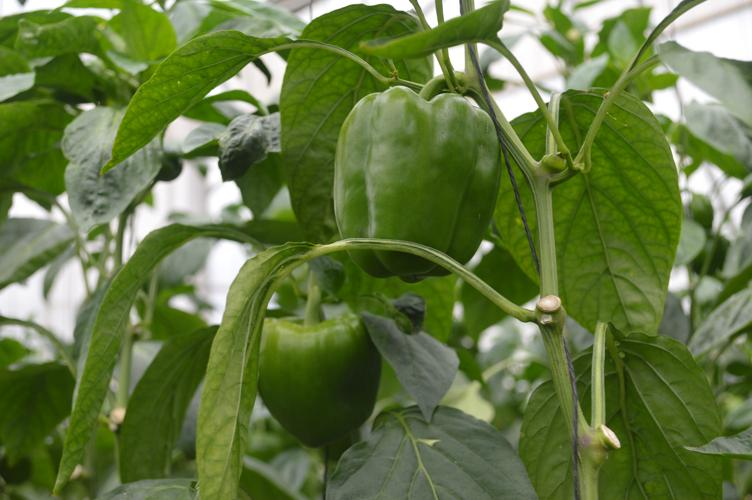BellPepper: (322, 70, 506, 287), (243, 303, 391, 459)
